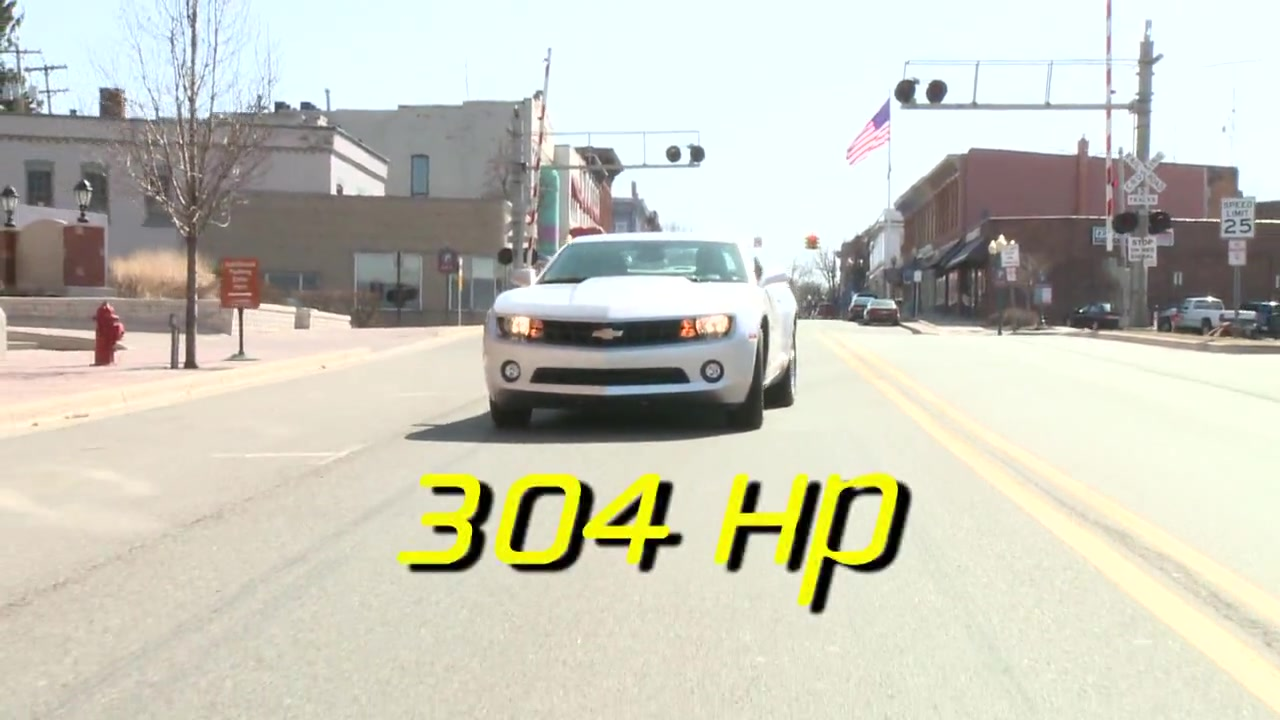car: (483, 235, 805, 434)
